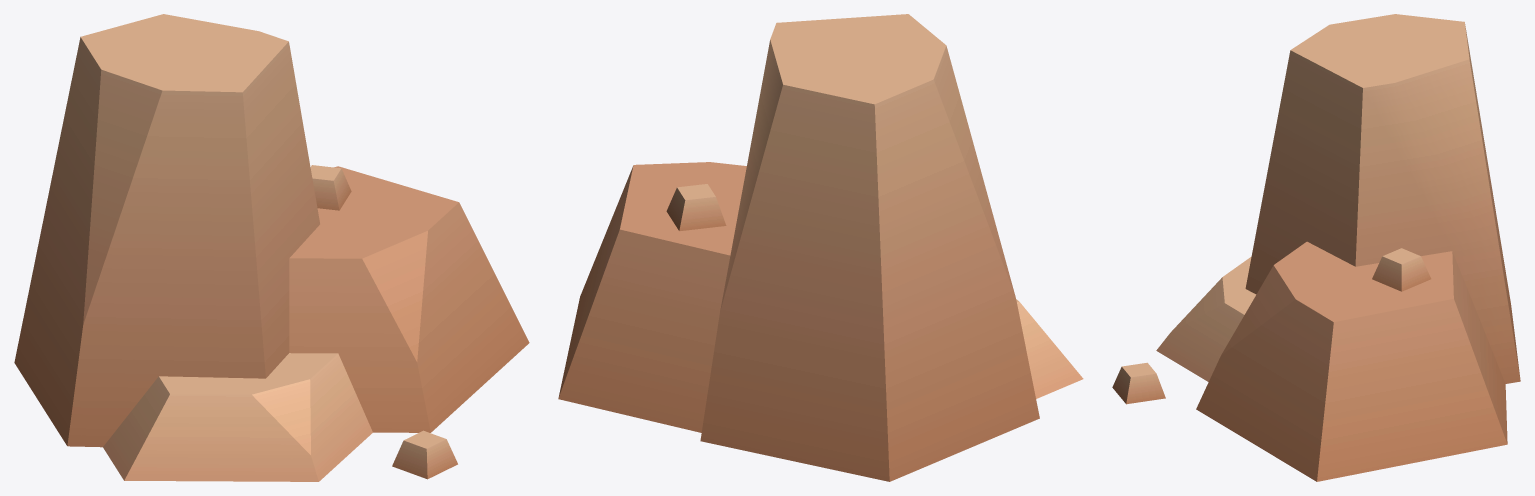
File: rock-sand-a.glb
The picture shows the model from 3 angles, left to right: view 1: azimuth 30°, elevation 25°; view 2: azimuth 150°, elevation 25°; view 3: azimuth 270°, elevation 25°; orthographic projection. The views are drawn at different scales.
Visible parts, largest first — view 1: rock-sand-a; view 2: rock-sand-a; view 3: rock-sand-a.
Boxes of the visible parts, left/top/right/bottom form: rock-sand-a: left=14, top=14, right=529, bottom=481; rock-sand-a: left=558, top=14, right=1083, bottom=481; rock-sand-a: left=1112, top=14, right=1520, bottom=481.
Bounding box in the file's own units: 0.5552 × 0.3927 × 0.4845.
1 material, 1 textured.
